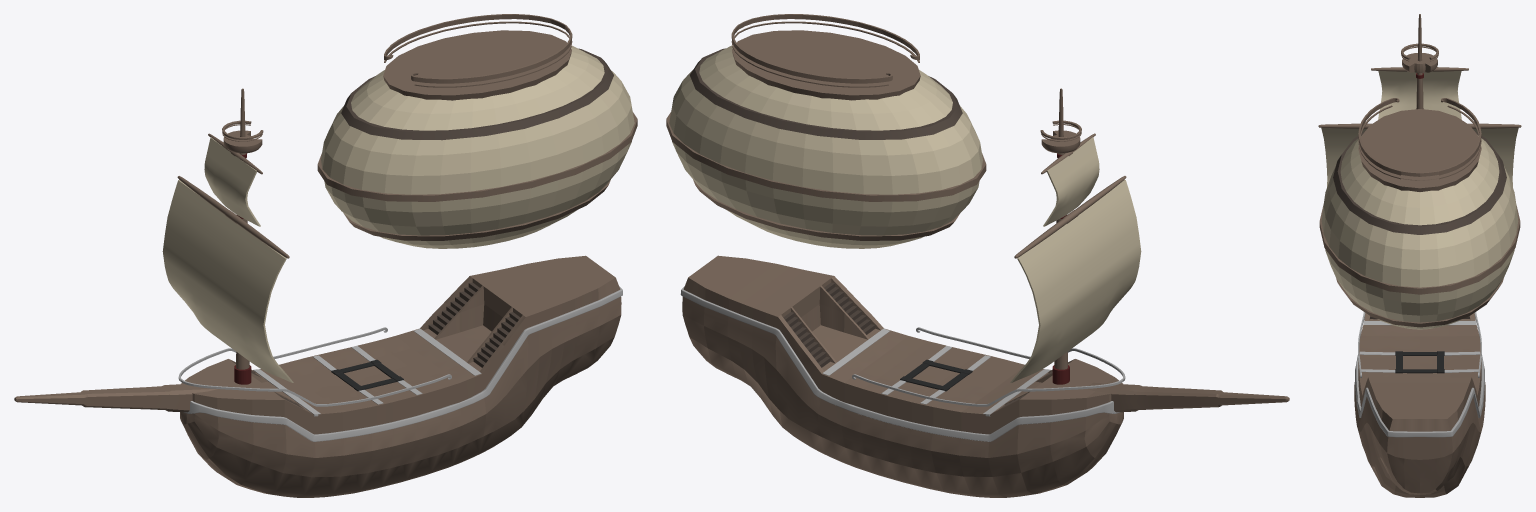
The model's file is Airship.fbx.
3 views of the same model, side by side, from view 1: azimuth 30°, elevation 25°; view 2: azimuth 150°, elevation 25°; view 3: azimuth 270°, elevation 25° (orthographic). The views are drawn at different scales.
Visible parts, largest first — view 1: Newship, Balloon, Sail_1, Balloon_Guard2, Outer_Rim, pasted__Balloon_Guard, Pointer, Balloon_Guard, Sail_2, Balloon_Railing, pasted__pasted__Balloon_Guard, Balloon_Railing1 (+5 smaller); view 2: Newship, Balloon, Sail_1, Balloon_Guard2, Outer_Rim, pasted__Balloon_Guard, Pointer, Balloon_Guard, Sail_2, Balloon_Railing, pasted__pasted__Balloon_Guard, Balloon_Railing1 (+5 smaller); view 3: Balloon, Newship, Balloon_Guard2, Sail_2, pasted__Balloon_Guard, Sail_1, Balloon_Guard, Outer_Rim, Balloon_Railing, pasted__pasted__Balloon_Guard, Grate, Balloon_Railing1 (+6 smaller).
Boxes of the visible parts, <box> form: Newship: <box>180,255,621,497</box>; Balloon: <box>321,45,634,248</box>; Sail_1: <box>162,180,293,382</box>; Balloon_Guard2: <box>383,30,571,100</box>; Outer_Rim: <box>183,286,622,441</box>; pasted__Balloon_Guard: <box>341,48,613,140</box>; Pointer: <box>14,382,217,412</box>; Balloon_Guard: <box>317,112,637,201</box>; Sail_2: <box>204,137,260,226</box>; Balloon_Railing: <box>384,14,572,83</box>; pasted__pasted__Balloon_Guard: <box>343,180,610,240</box>; Balloon_Railing1: <box>384,21,572,87</box>; Newship: <box>682,255,1123,497</box>; Balloon: <box>669,45,982,248</box>; Sail_1: <box>1010,180,1141,382</box>; Balloon_Guard2: <box>732,30,920,100</box>; Outer_Rim: <box>680,286,1120,441</box>; pasted__Balloon_Guard: <box>690,48,962,139</box>; Pointer: <box>1087,382,1289,412</box>; Balloon_Guard: <box>666,112,986,201</box>; Sail_2: <box>1043,137,1099,226</box>; Balloon_Railing: <box>731,14,919,83</box>; pasted__pasted__Balloon_Guard: <box>693,180,959,240</box>; Balloon_Railing1: <box>731,21,919,87</box>; Balloon: <box>1321,135,1518,329</box>; Newship: <box>1354,313,1485,497</box>; Balloon_Guard2: <box>1358,109,1481,191</box>; Sail_2: <box>1378,71,1461,119</box>; pasted__Balloon_Guard: <box>1333,131,1506,234</box>; Sail_1: <box>1321,128,1518,186</box>; Balloon_Guard: <box>1319,205,1520,294</box>; Outer_Rim: <box>1355,319,1484,437</box>; Balloon_Railing: <box>1358,98,1481,177</box>; pasted__pasted__Balloon_Guard: <box>1336,278,1503,327</box>; Grate: <box>1395,351,1444,373</box>; Balloon_Railing1: <box>1358,105,1481,181</box>.
Bounding box in the file's own units: 2172 × 1421 × 677.
